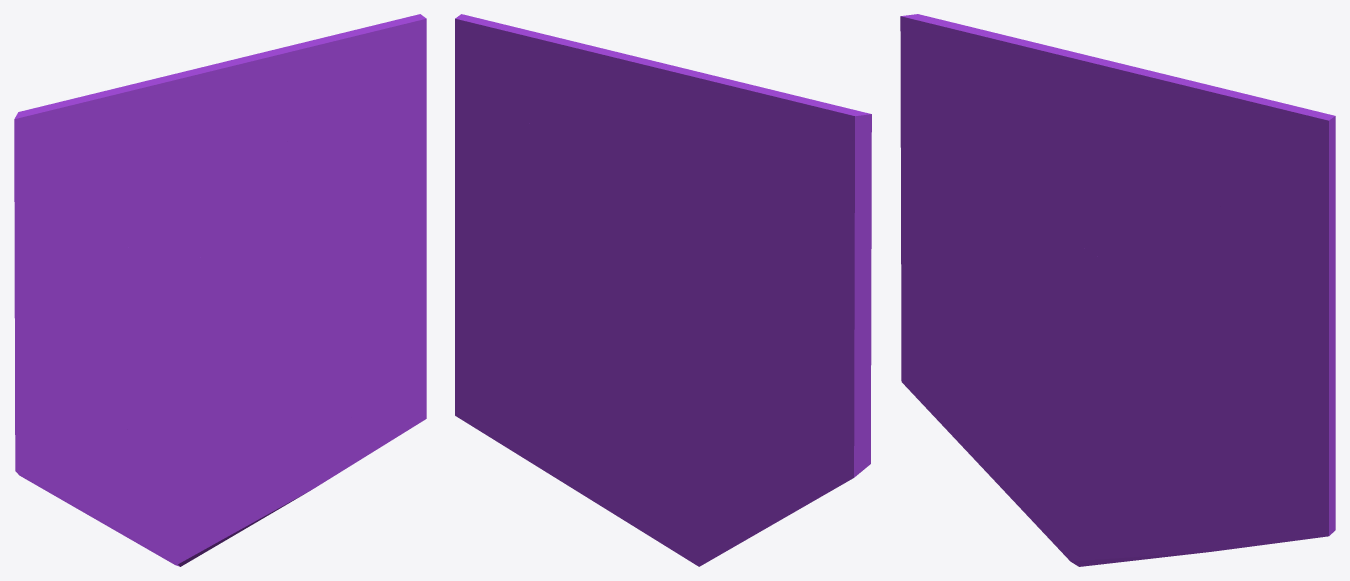
File: Glass_79_14_chunks.fbx
3 renders of one model, left to right at view 1: azimuth 30°, elevation 25°; view 2: azimuth 150°, elevation 25°; view 3: azimuth 330°, elevation 25°, orthographic. The views are drawn at different scales.
Parts seen in each view (by area): view 1: Glass_79_14_3, Glass_79_14_0, Glass_79_14_2, Glass_79_14_6, Glass_79_14_4, Glass_79_14_27, Glass_79_14_17, Glass_79_14_19, Glass_79_14_21, Glass_79_14_13, Glass_79_14_22, Glass_79_14_11 (+20 smaller); view 2: Glass_79_14_6, Glass_79_14_2, Glass_79_14_3, Glass_79_14_22, Glass_79_14_7, Glass_79_14_27, Glass_79_14_5, Glass_79_14_0, Glass_79_14_17, Glass_79_14_8, Glass_79_14_12, Glass_79_14_29 (+20 smaller); view 3: Glass_79_14_3, Glass_79_14_0, Glass_79_14_2, Glass_79_14_6, Glass_79_14_4, Glass_79_14_27, Glass_79_14_17, Glass_79_14_21, Glass_79_14_19, Glass_79_14_13, Glass_79_14_16, Glass_79_14_22 (+20 smaller).
Boxes of the visible parts, bbox=[...] form: Glass_79_14_3: bbox=[214, 238, 413, 419]; Glass_79_14_0: bbox=[67, 247, 230, 359]; Glass_79_14_2: bbox=[55, 80, 192, 227]; Glass_79_14_6: bbox=[196, 177, 293, 344]; Glass_79_14_4: bbox=[206, 414, 307, 551]; Glass_79_14_27: bbox=[15, 330, 96, 498]; Glass_79_14_17: bbox=[318, 231, 426, 392]; Glass_79_14_19: bbox=[326, 152, 426, 257]; Glass_79_14_21: bbox=[346, 14, 426, 157]; Glass_79_14_13: bbox=[14, 103, 119, 223]; Glass_79_14_22: bbox=[145, 64, 263, 187]; Glass_79_14_11: bbox=[15, 215, 125, 327]; Glass_79_14_6: bbox=[596, 177, 711, 355]; Glass_79_14_2: bbox=[703, 75, 818, 243]; Glass_79_14_3: bbox=[477, 251, 662, 423]; Glass_79_14_22: bbox=[612, 66, 729, 195]; Glass_79_14_7: bbox=[471, 200, 625, 336]; Glass_79_14_27: bbox=[787, 323, 871, 495]; Glass_79_14_5: bbox=[570, 410, 664, 544]; Glass_79_14_0: bbox=[677, 238, 808, 341]; Glass_79_14_17: bbox=[455, 238, 573, 397]; Glass_79_14_8: bbox=[664, 451, 761, 566]; Glass_79_14_12: bbox=[812, 120, 871, 309]; Glass_79_14_29: bbox=[733, 315, 871, 454]; Glass_79_14_3: bbox=[1108, 342, 1315, 461]; Glass_79_14_0: bbox=[955, 206, 1124, 368]; Glass_79_14_2: bbox=[956, 23, 1085, 184]; Glass_79_14_6: bbox=[1089, 169, 1190, 359]; Glass_79_14_4: bbox=[1100, 429, 1204, 563]; Glass_79_14_27: bbox=[901, 235, 986, 435]; Glass_79_14_17: bbox=[1215, 341, 1335, 472]; Glass_79_14_21: bbox=[1245, 114, 1335, 249]; Glass_79_14_19: bbox=[1224, 237, 1335, 345]; Glass_79_14_13: bbox=[900, 14, 1009, 168]; Glass_79_14_16: bbox=[1248, 438, 1335, 545]; Glass_79_14_22: bbox=[1049, 46, 1159, 197].
Size of the model in its own units: 1018 by 1159 by 27.2.
